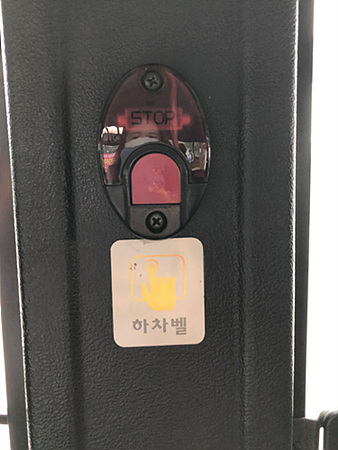bell: (97, 62, 211, 241)
